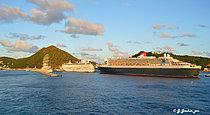Ship: (103, 52, 203, 83)
